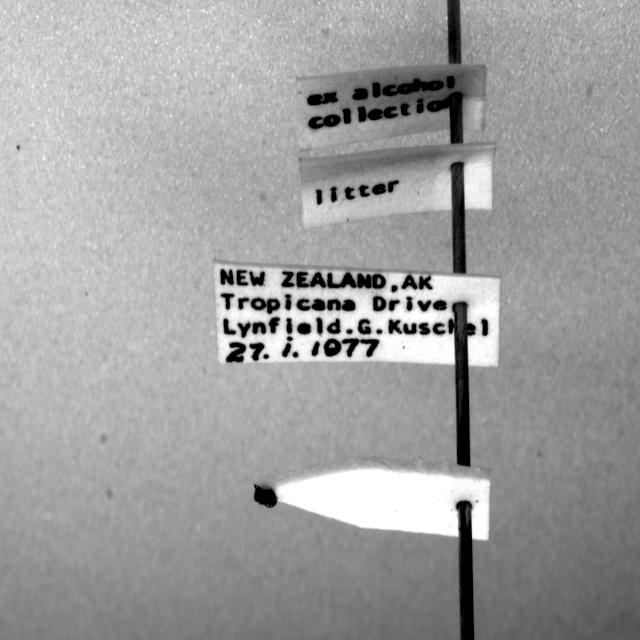mixed_label: (214, 261, 501, 368)
typed_label: (299, 142, 495, 229), (296, 64, 486, 150)
